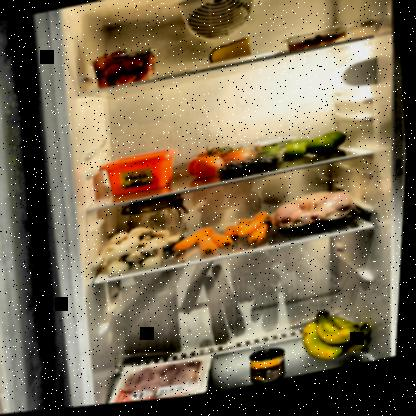banana: (298, 304, 382, 375)
blueberries: (218, 153, 288, 186)
butter: (104, 150, 181, 205)
carrot: (174, 214, 280, 266)
cheese: (206, 39, 255, 71)
chicken: (268, 189, 367, 248)
corn: (249, 348, 295, 390)
lime: (259, 136, 352, 170)
mushrooms: (102, 225, 172, 283)
shrimp: (290, 34, 347, 57)
strawberries: (86, 44, 163, 97)
tomato: (185, 139, 263, 186)
